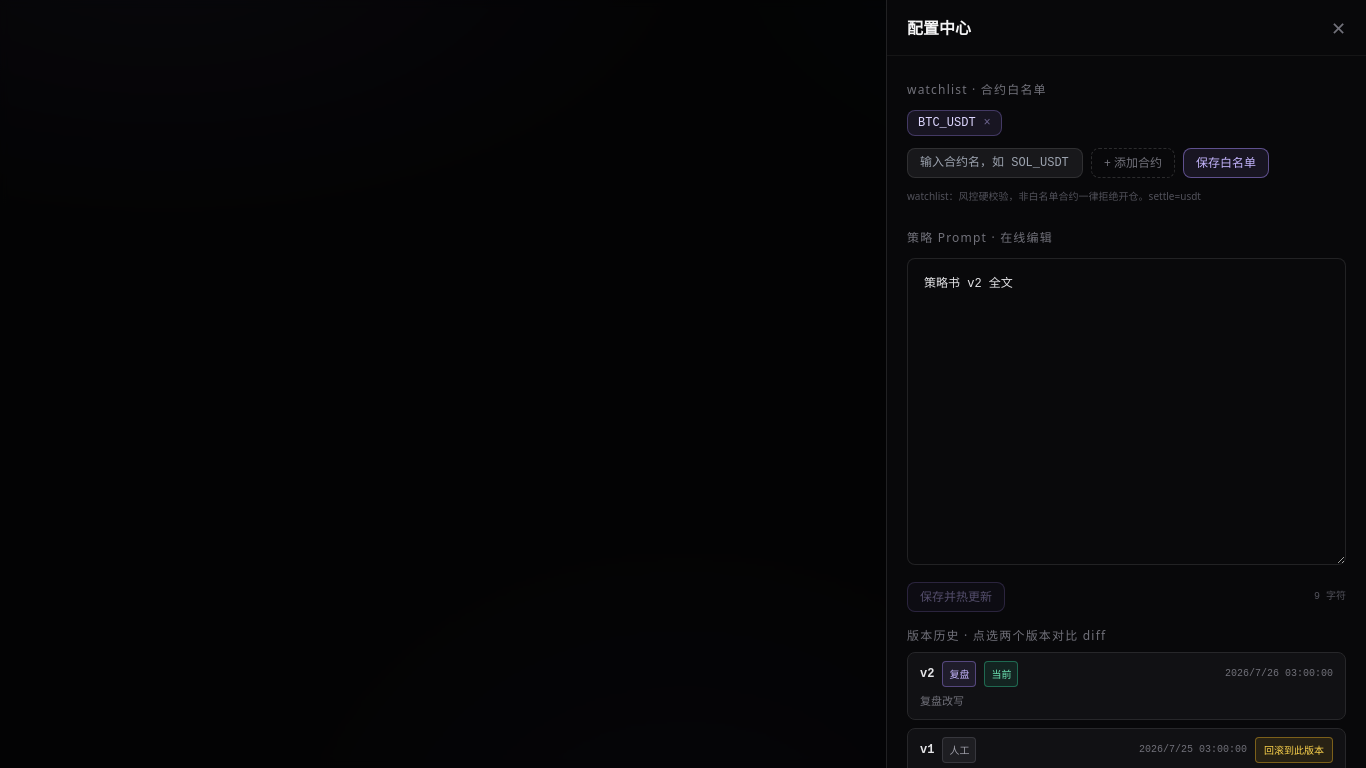
Scenario: ConfigDrawer(配置抽屉) · 策略版本回滚 › 保存并热更新成功：版本历史立即重拉，新版本行可见
(page scrolled)
修改内容并保存（抽屉内有策略/研报两个编辑器，按钮重名：限定在策略 textarea 所在 section 内点保存）
Replace the text in the text box named "system_prompt 内容" with "策略书 v3 手改全文": [1126, 412] box [907,258,1346,565]
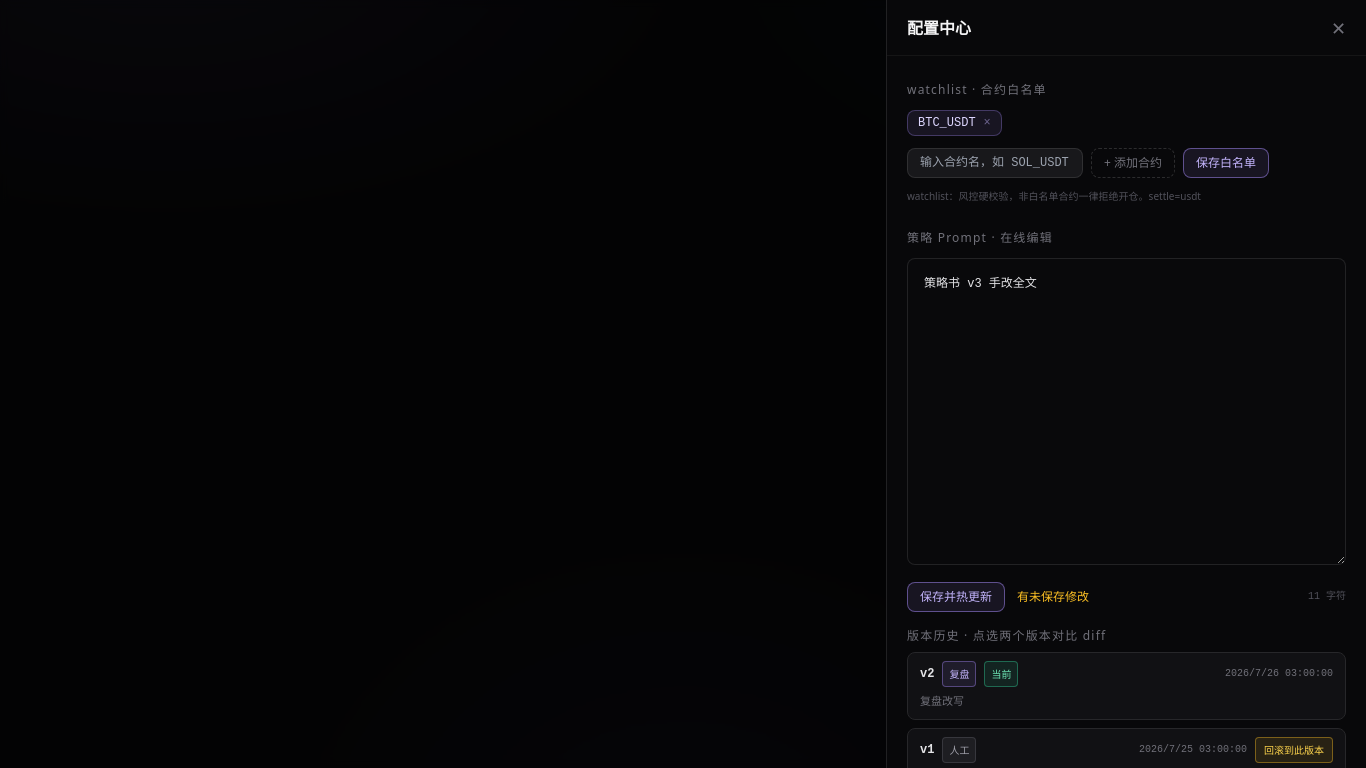
Click the button "保存并热更新": [956, 597] box [907,582,1005,612]
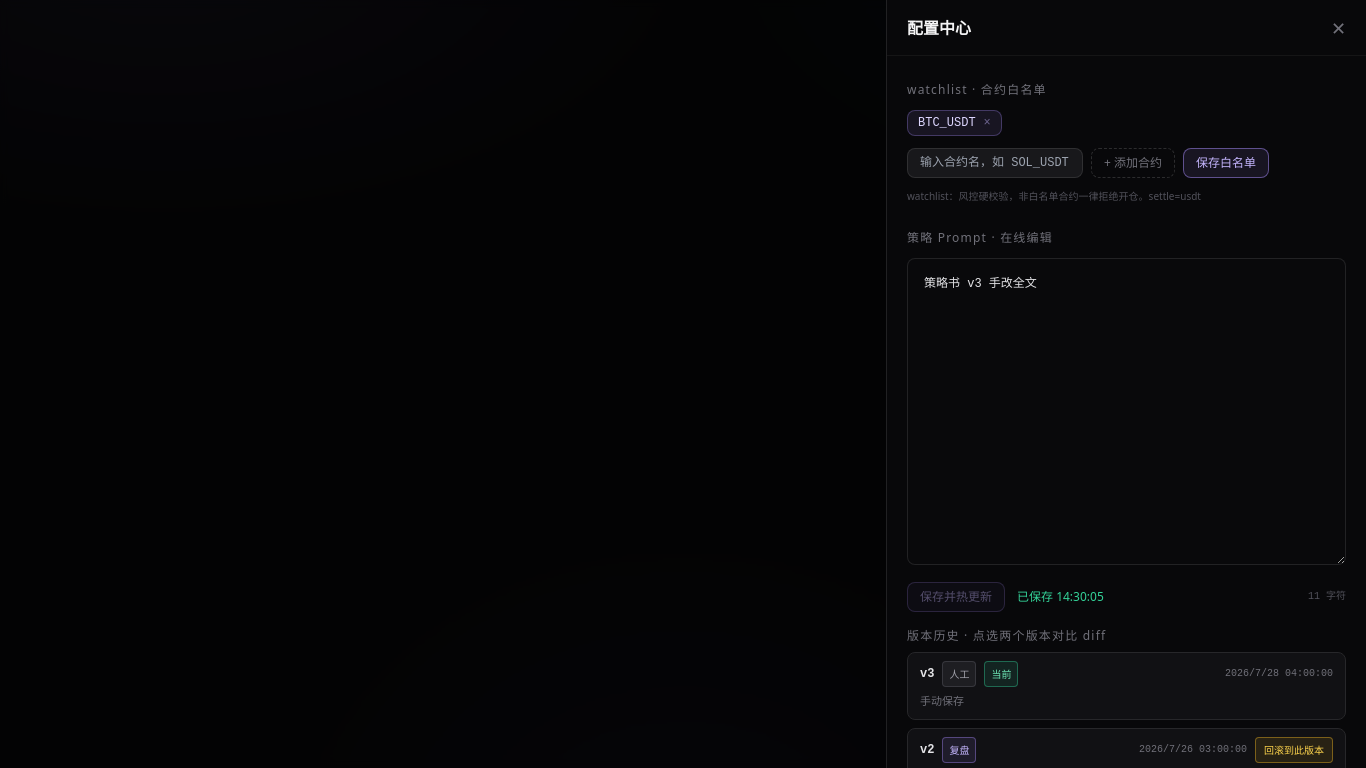
Check: the text "v3" is shown, box [920,666,934,682]
Check: the text "手动保存" is shown, box [920,693,964,708]
Check: the text "已保存 14:30:05" is shown, box [1017,589,1104,605]
